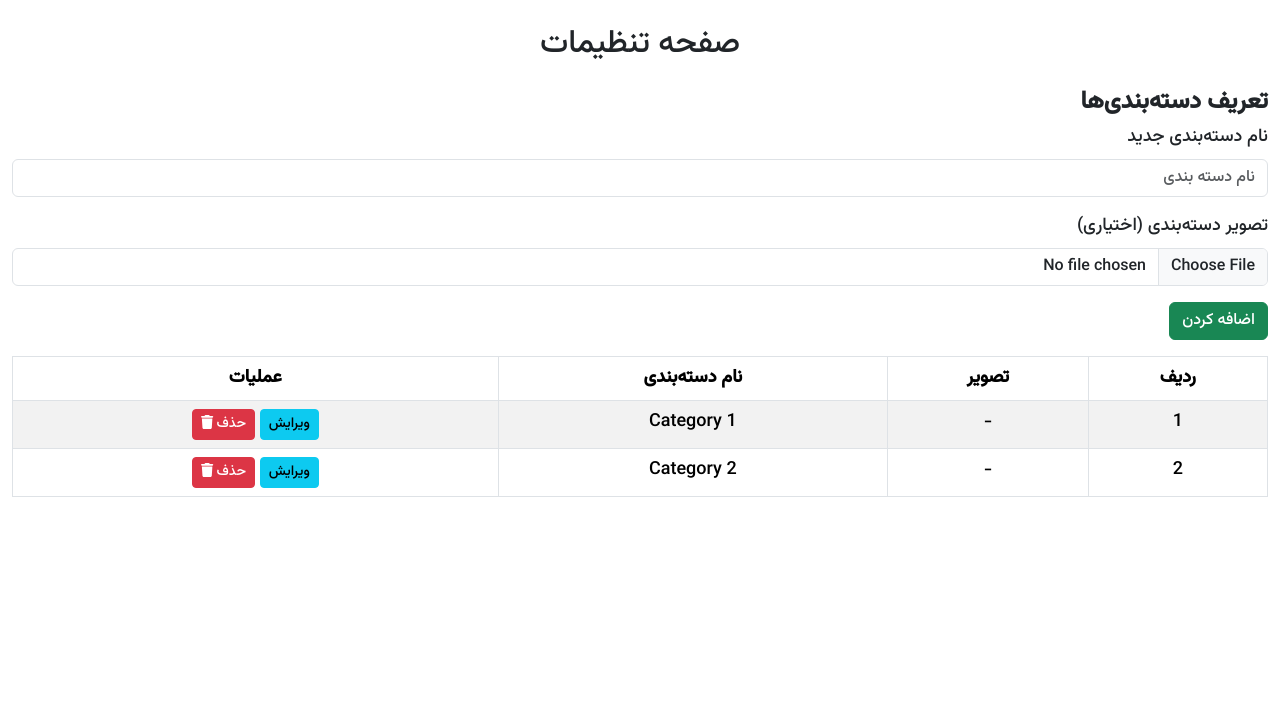
it: SettingsPage Component › edits a category
Expected: the text "Category 1" is shown, [498, 401, 888, 449]
Click the button "ویرایش" in the row of "Category 1": (289, 425) [260, 409, 319, 440]
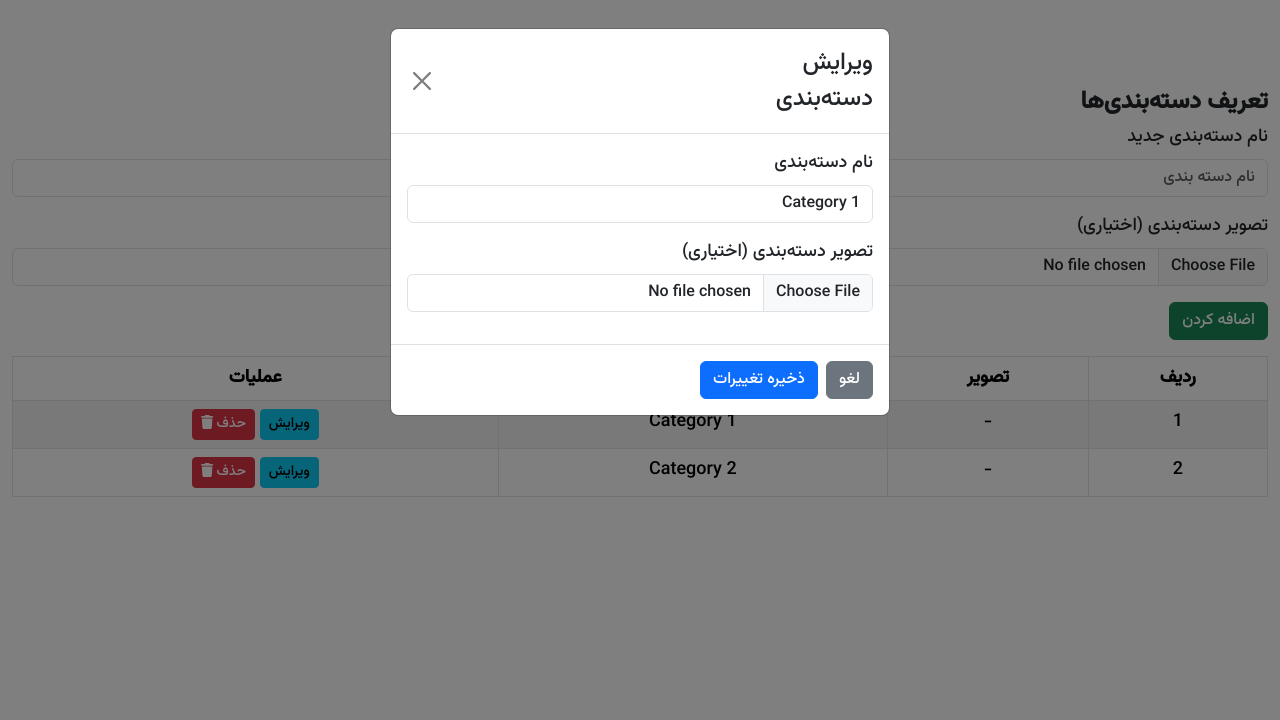
Expected: the text "ویرایش دسته‌بندی" is shown, [776, 44, 873, 118]
Click the button "ذخیره تغییرات": (759, 380) [700, 361, 818, 399]
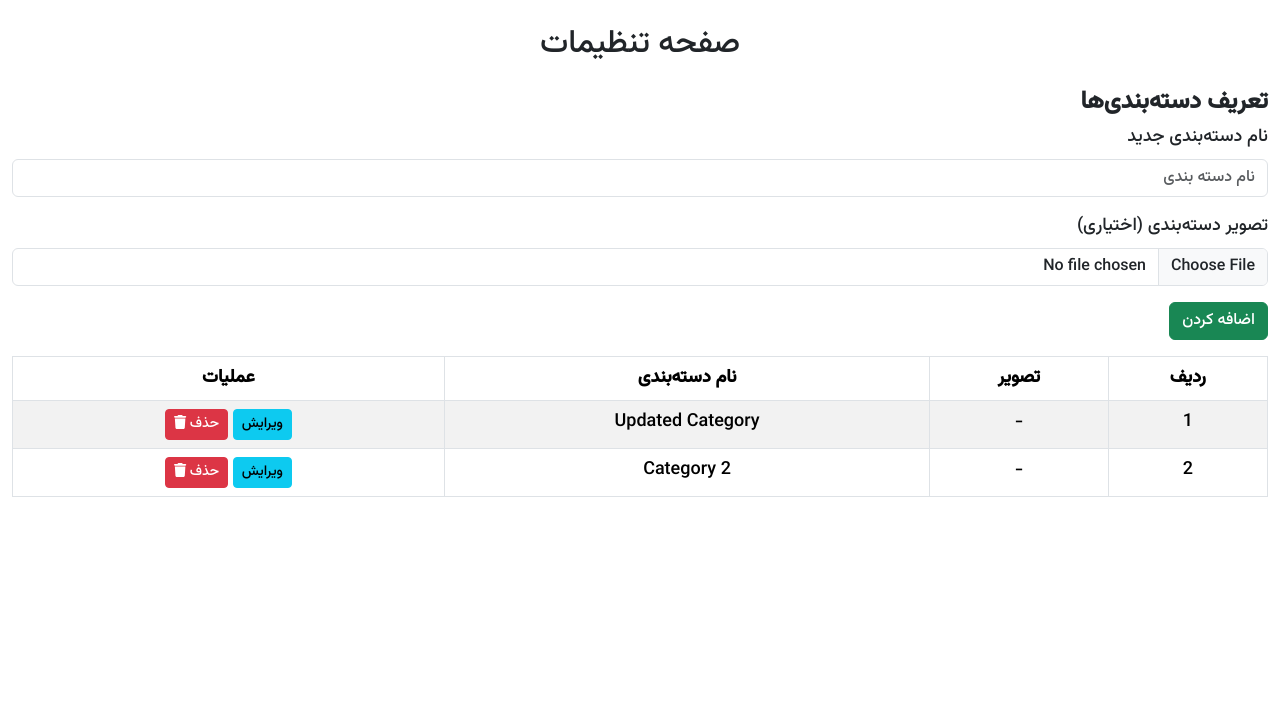
Expected: the text "Updated Category" is shown, [444, 401, 930, 449]
